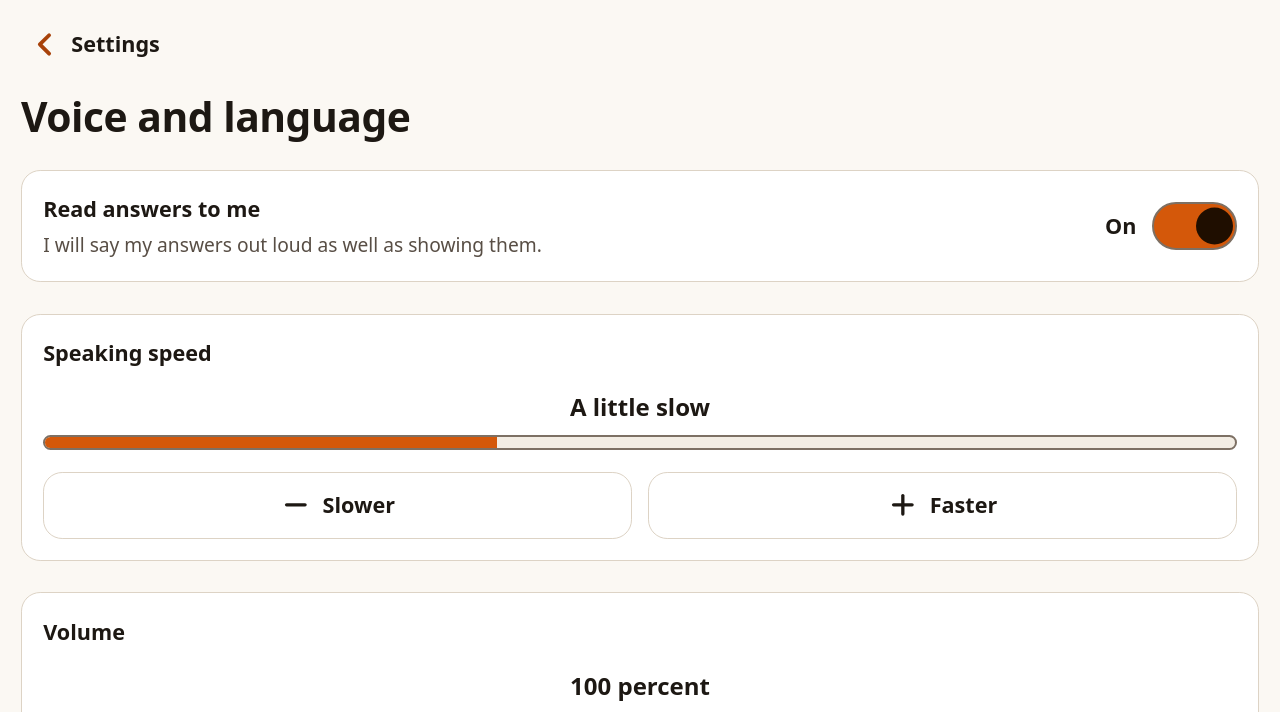
it: settings change real behaviour › speed and volume steppers change values within limits, speak in words, and are used for the sample
The width and height of the screenshot is (1280, 712).
Later steps or results of the test are not shown.
Expected: the text "A little slow" is shown, x1=570 y1=390 x2=710 y2=424
Click the button "Slower".
click(338, 505)  # box x1=43 y1=472 x2=632 y2=539
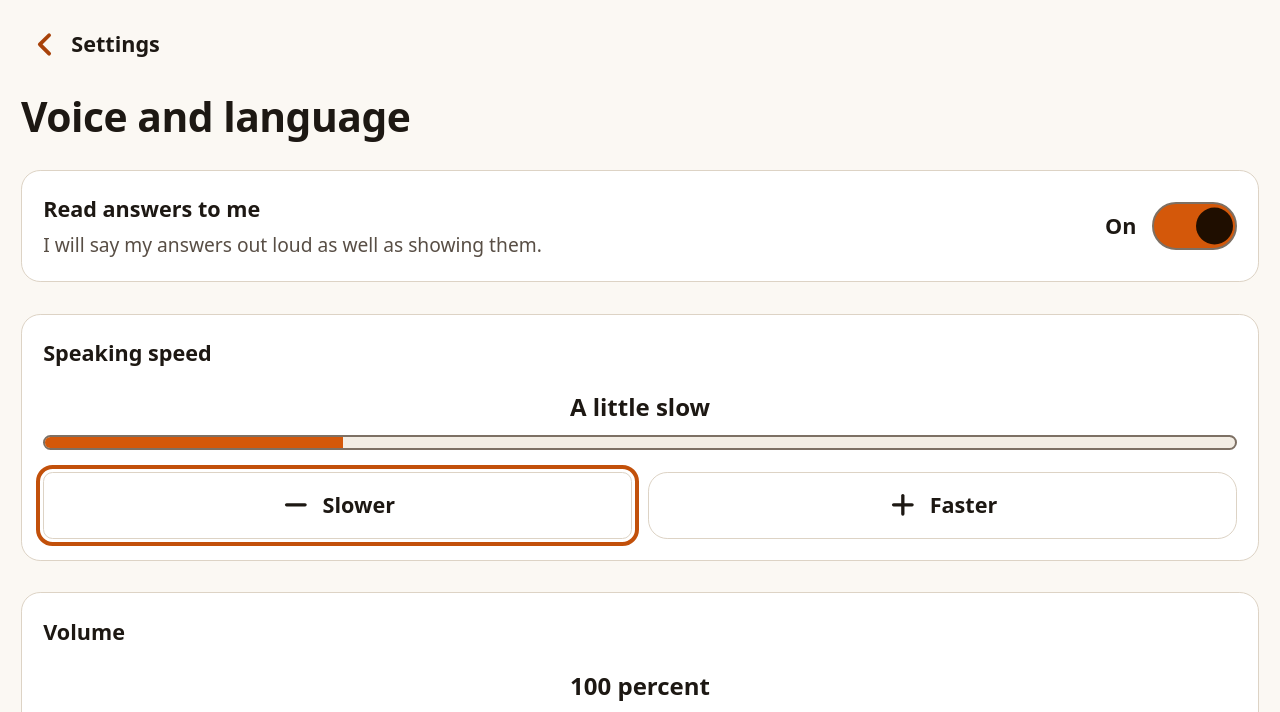
Click the button "Slower".
click(338, 505)  # box x1=43 y1=472 x2=632 y2=539
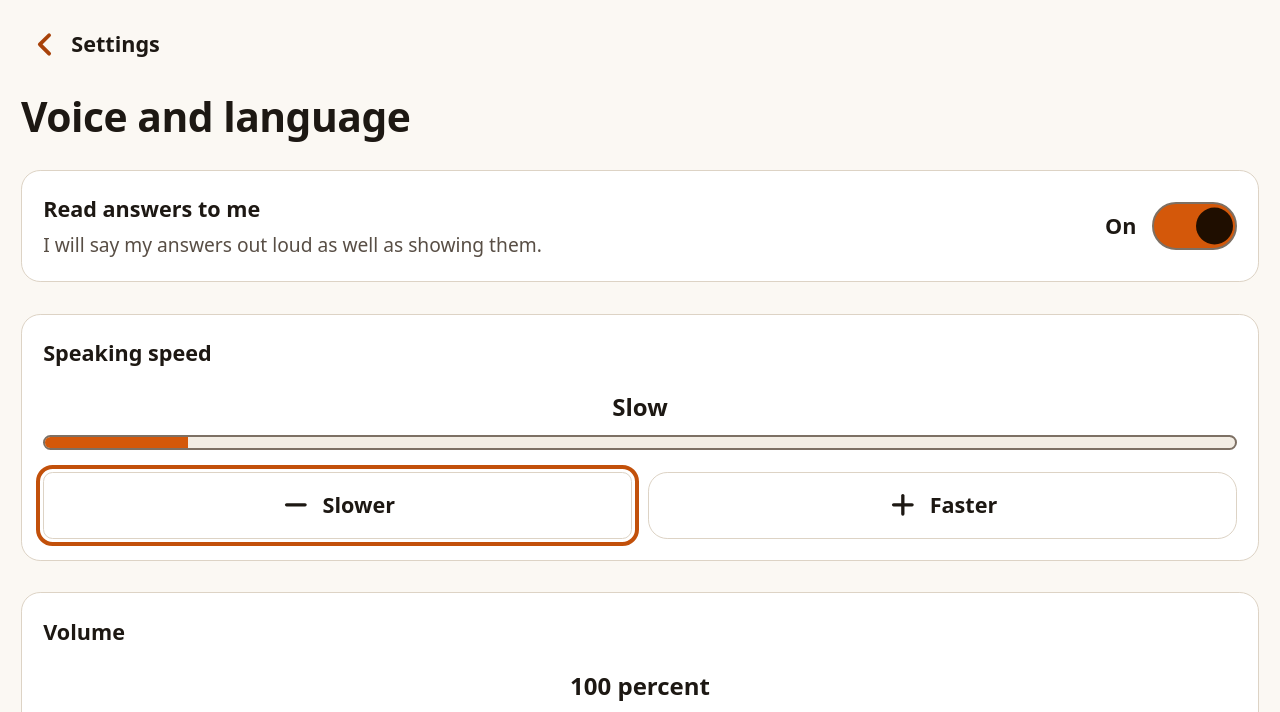
Click the button "Slower".
click(338, 505)  # box x1=43 y1=472 x2=632 y2=539
(page scrolled)
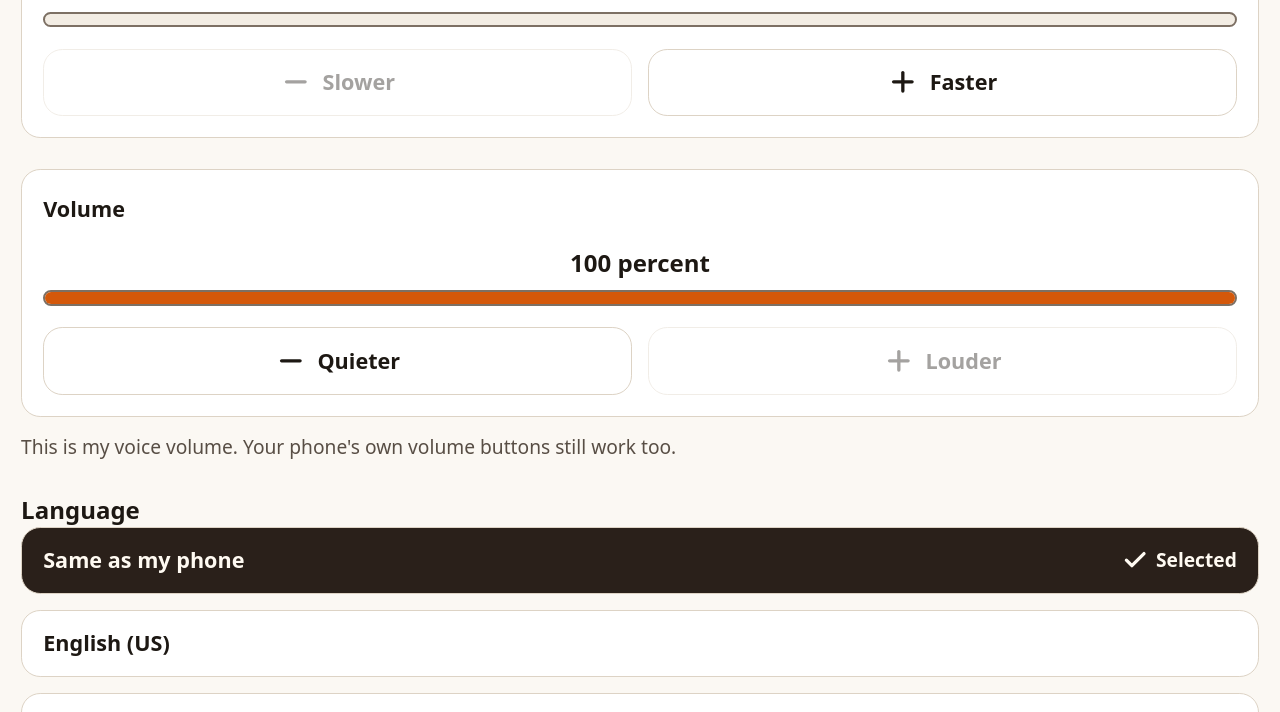
Expected: the button "Louder" is disabled, x1=648 y1=327 x2=1237 y2=395
Now the button "Slower" is disabled, box x1=43 y1=48 x2=632 y2=116
